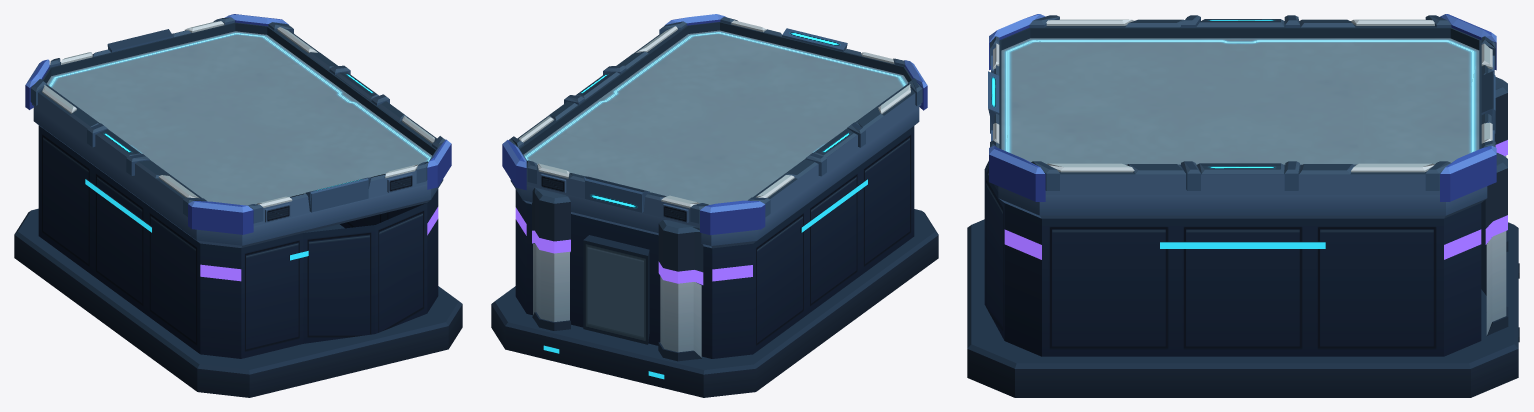
Rendered from CyberArenaBoard.fbx.
3 renders of one model, left to right at view 1: azimuth 30°, elevation 25°; view 2: azimuth 150°, elevation 25°; view 3: azimuth 270°, elevation 25°, orthographic. The views are drawn at different scales.
Visible parts, largest first — view 1: CyberArenaBoard; view 2: CyberArenaBoard; view 3: CyberArenaBoard.
Boxes of the visible parts, <box> form: CyberArenaBoard: <box>14,14,462,397</box>; CyberArenaBoard: <box>491,14,938,397</box>; CyberArenaBoard: <box>967,14,1519,397</box>.
Bounding box in the file's own units: 368 × 243 × 533.
